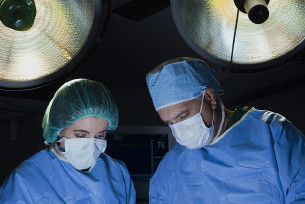face_mask: (161, 106, 215, 148), (62, 119, 106, 169)
